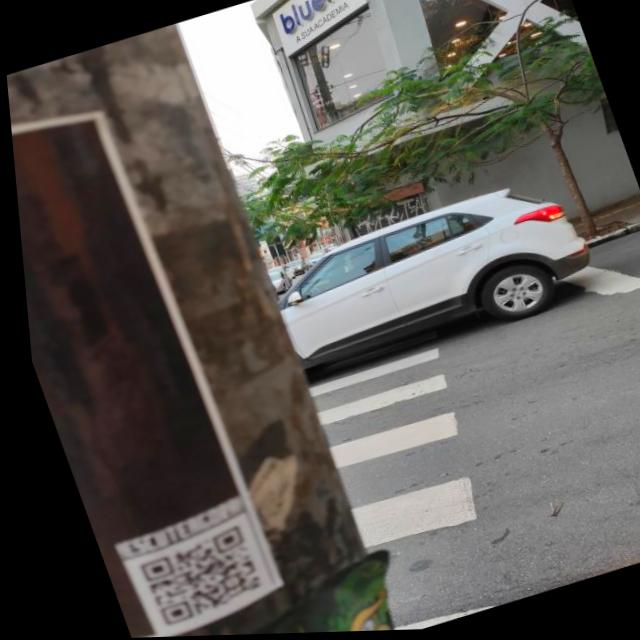qrcode: (127, 527, 257, 629)
